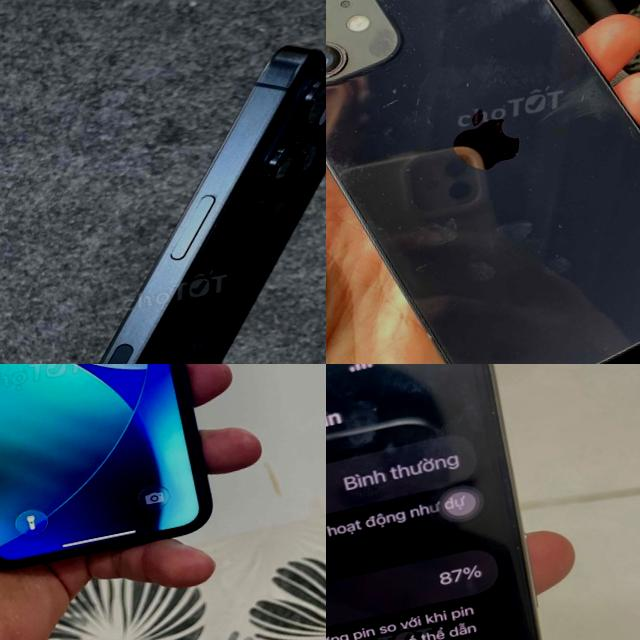gen_11: (0, 364, 232, 577)
gen_12_13: (326, 0, 640, 364)
gen_15: (0, 24, 326, 364), (326, 364, 624, 640)
scratch: (326, 0, 470, 299), (586, 74, 640, 343), (166, 296, 242, 364)
